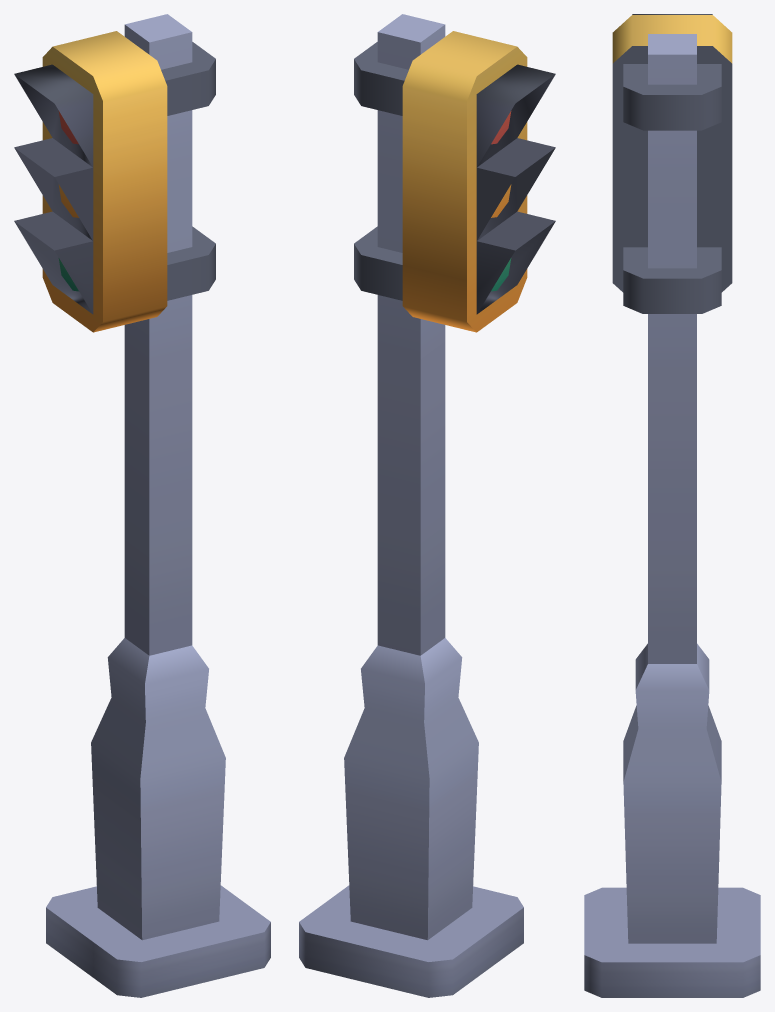
File: traffic-light.glb
3 views of the same model, side by side, from view 1: azimuth 30°, elevation 25°; view 2: azimuth 150°, elevation 25°; view 3: azimuth 270°, elevation 25° (orthographic).
Visible parts, largest first — view 1: traffic-light; view 2: traffic-light; view 3: traffic-light.
Boxes of the visible parts, left/top/right/bottom form: traffic-light: left=14, top=14, right=270, bottom=997; traffic-light: left=299, top=14, right=555, bottom=997; traffic-light: left=584, top=14, right=760, bottom=997.
Bounding box in the file's own units: 0.1176 × 0.515 × 0.09.
Materials: 1 (1 with a texture image).
